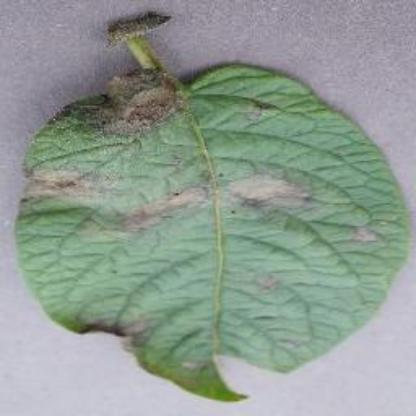Late-Blight: (12, 10, 412, 404)
